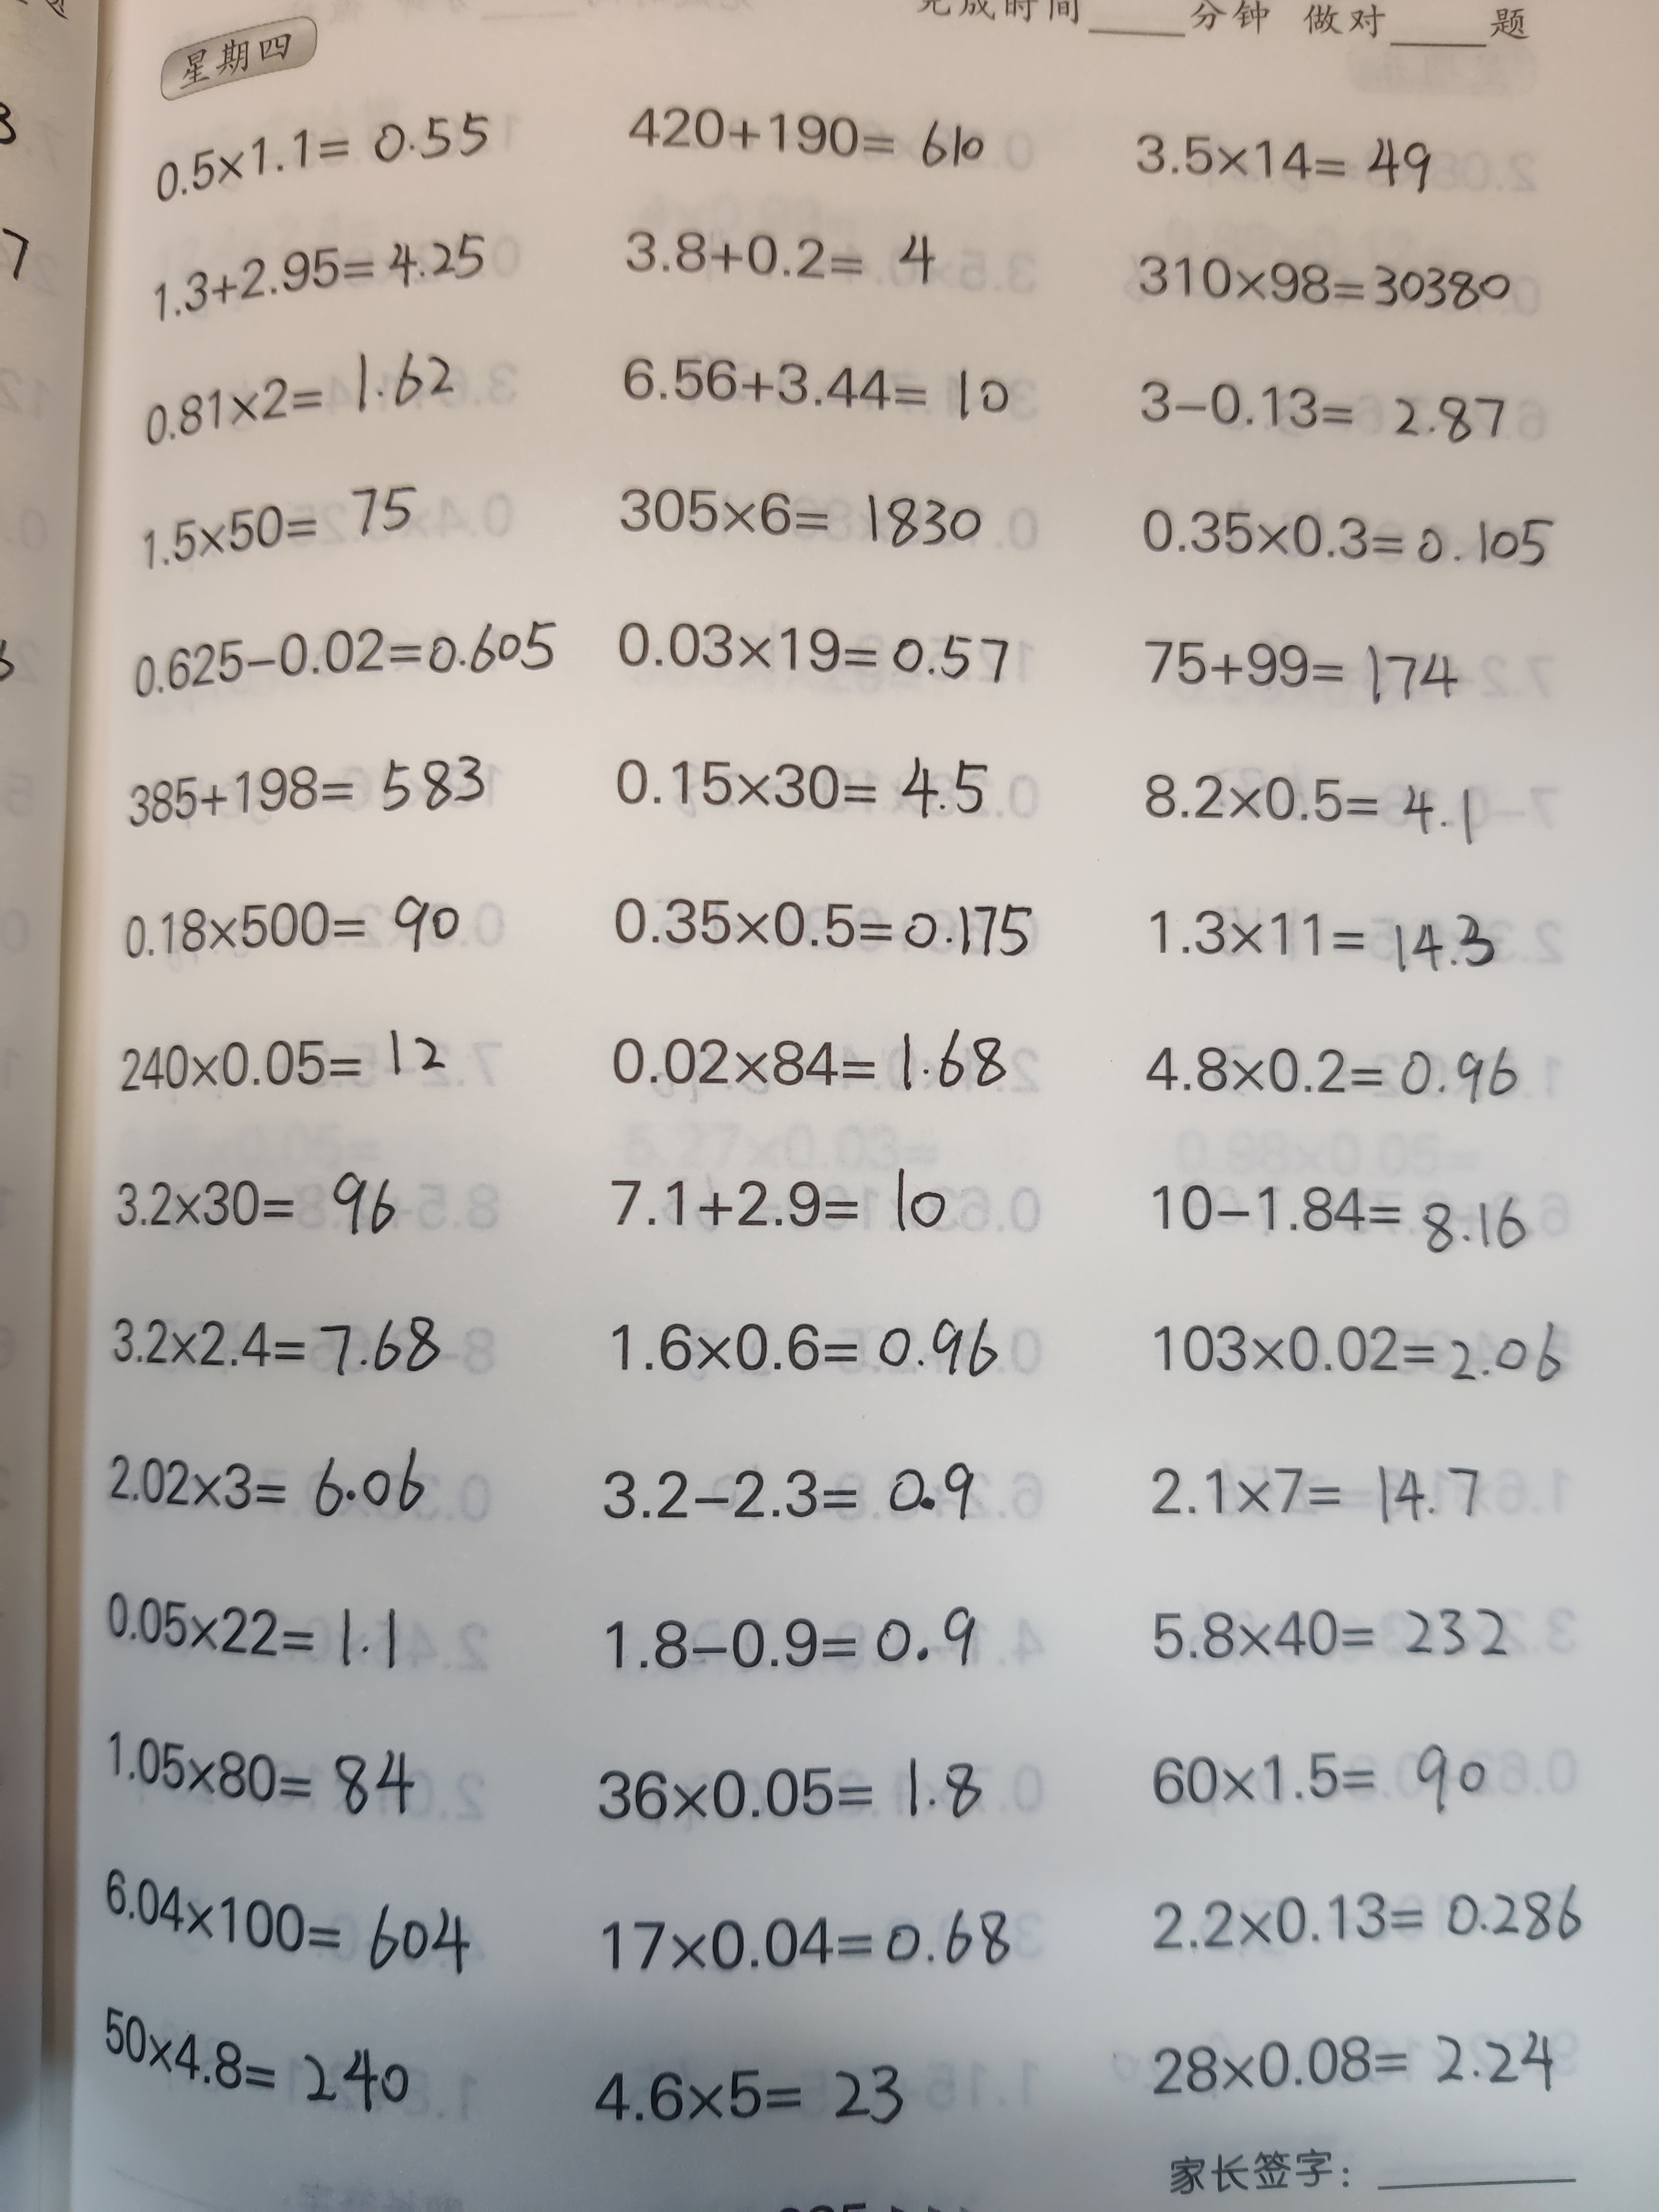equation: (594, 873, 1053, 984), (582, 1127, 962, 1258), (87, 1857, 474, 1977), (599, 603, 1023, 712), (598, 1291, 1004, 1404), (619, 71, 997, 192), (1122, 235, 1528, 347), (113, 615, 568, 714), (603, 728, 1006, 840), (586, 1897, 1028, 1998), (1141, 1155, 1547, 1264), (587, 1003, 1019, 1106), (1134, 1876, 1598, 1970), (1143, 1296, 1572, 1397), (605, 1597, 997, 1707), (1129, 752, 1497, 867), (1148, 2015, 1581, 2113), (610, 340, 1012, 442), (1122, 362, 1518, 467), (98, 1996, 422, 2123), (598, 467, 999, 570), (1126, 1585, 1532, 1686), (138, 223, 497, 336), (591, 1439, 985, 1541), (1122, 491, 1567, 582), (1134, 887, 1504, 991), (1134, 1726, 1504, 1831), (1131, 1442, 1506, 1543), (91, 1573, 415, 1689), (580, 2043, 936, 2149), (582, 1750, 997, 1841), (1131, 1026, 1532, 1118), (92, 1719, 422, 1831), (610, 211, 958, 315), (141, 106, 498, 207), (1141, 618, 1478, 725), (112, 747, 512, 836), (136, 347, 471, 451), (94, 1426, 429, 1529), (1119, 101, 1446, 204), (112, 890, 477, 981), (92, 1301, 451, 1392), (110, 1024, 458, 1113), (136, 474, 427, 580), (99, 1167, 432, 1259)
